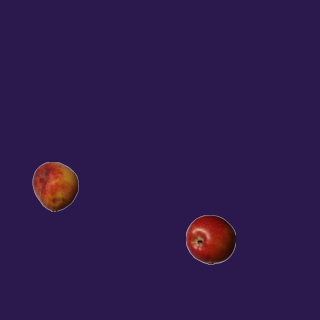Apple Braeburn: (185, 214, 235, 264)
Peach: (30, 161, 80, 211)
